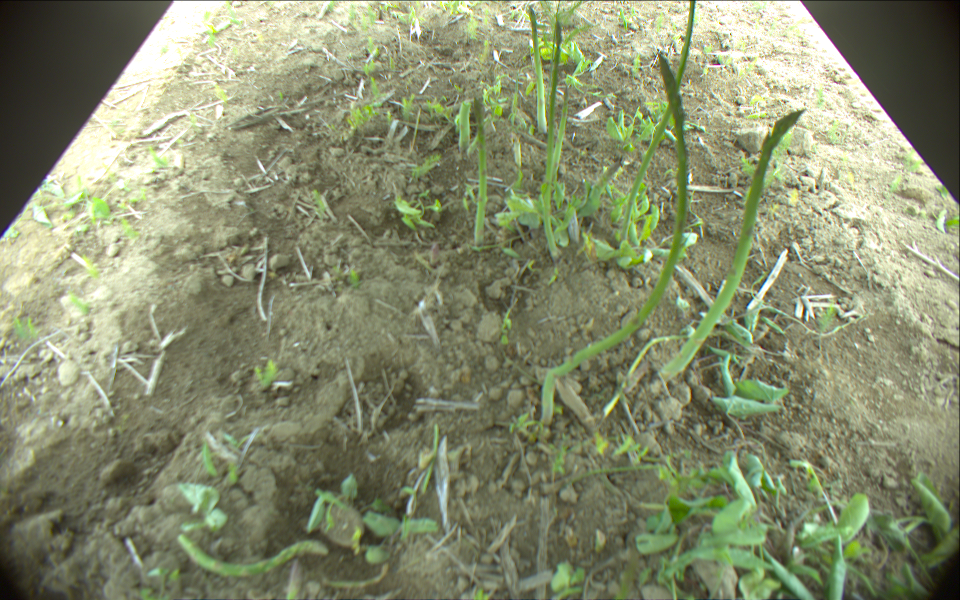aspa: (541, 56, 692, 427), (658, 109, 808, 379), (620, 1, 697, 243), (176, 535, 328, 578), (541, 86, 570, 264), (545, 22, 562, 192), (527, 6, 548, 134), (473, 98, 487, 249), (585, 158, 622, 215), (457, 98, 470, 152)
